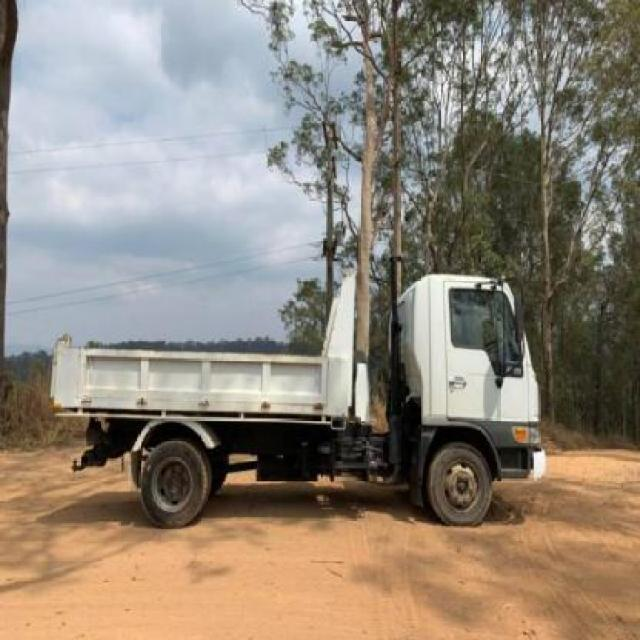Dump Truck: (47, 264, 546, 532)
